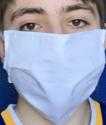with_mask: (1, 1, 106, 125)
